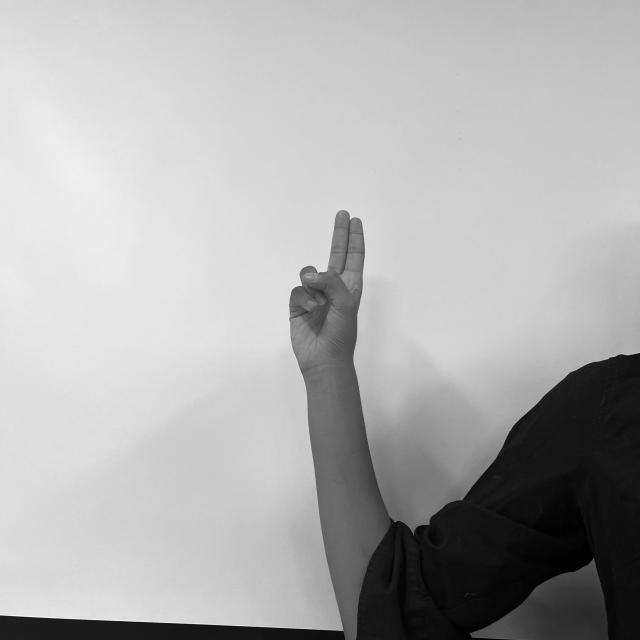Letra U: (284, 206, 368, 369)
